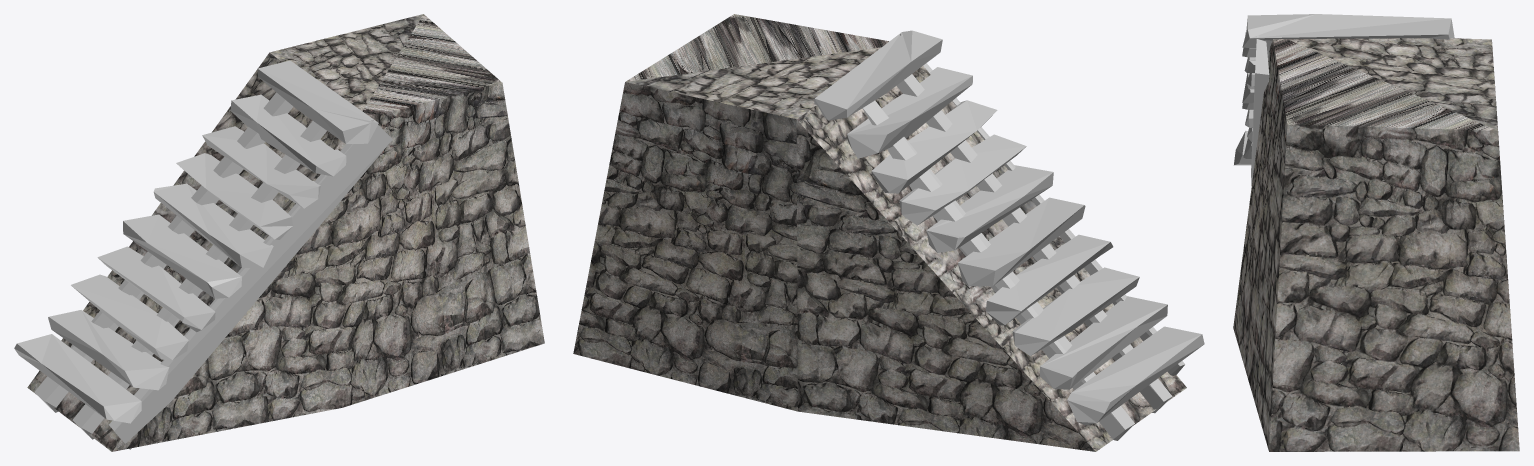
The model's file is StoneRamp_1_LOD3.fbx.
3 renders of one model, left to right at view 1: azimuth 30°, elevation 25°; view 2: azimuth 150°, elevation 25°; view 3: azimuth 270°, elevation 25°, orthographic. The views are drawn at different scales.
Parts seen in each view (by area): view 1: Stone, Wood; view 2: Stone, Wood; view 3: Stone, Wood.
Part boxes in pixels (<box>): Stone: <box>27,14,544,451</box>; Wood: <box>14,60,392,449</box>; Stone: <box>573,14,1186,451</box>; Wood: <box>814,30,1204,440</box>; Stone: <box>1233,38,1519,451</box>; Wood: <box>1234,14,1454,185</box>.
Bounding box in the file's own units: 1011 × 459 × 567.
